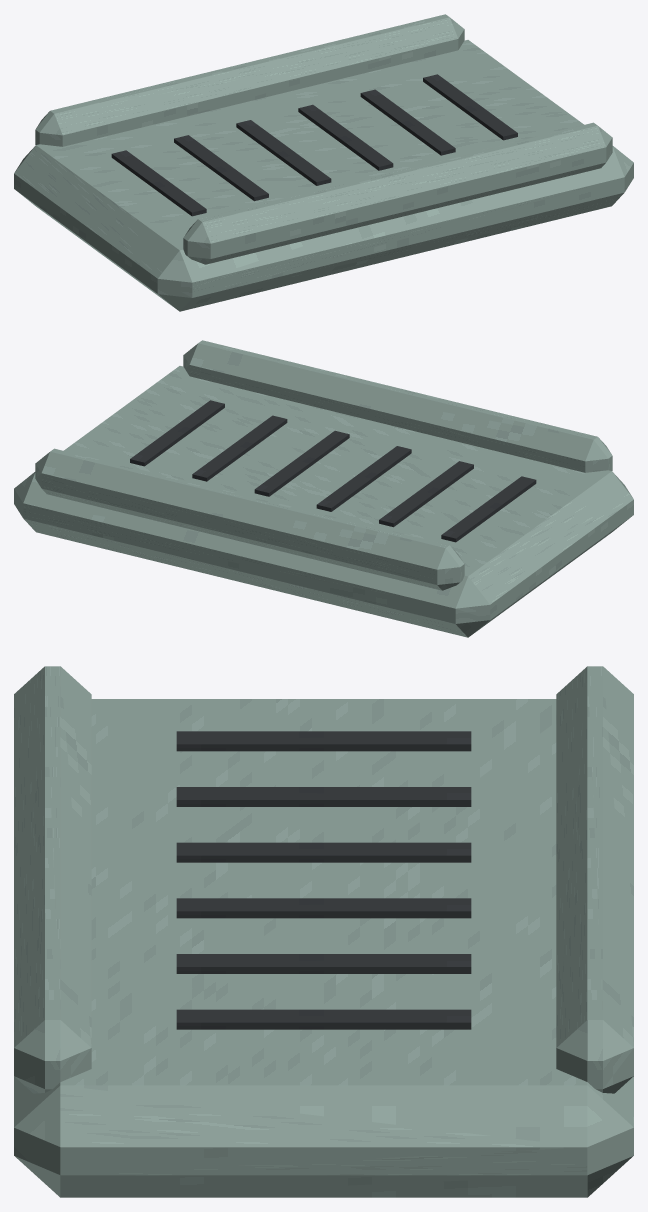
Rendered from soap_holder.glb.
3 renders of one model, top to bottom at view 1: azimuth 30°, elevation 25°; view 2: azimuth 150°, elevation 25°; view 3: azimuth 270°, elevation 25°, orthographic. The views are drawn at different scales.
Parts seen in each view (by area): view 1: block_oval base, block_rim 1, block_rim -1, block_drain 0, block_drain 3, block_drain 4, block_drain 2, block_drain 5, block_drain 1; view 2: block_oval base, block_rim -1, block_rim 1, block_drain 0, block_drain 3, block_drain 4, block_drain 2, block_drain 5, block_drain 1; view 3: block_oval base, block_rim -1, block_rim 1, block_drain 0, block_drain 2, block_drain 3, block_drain 5, block_drain 1, block_drain 4.
Part boxes in pixels (x1,y1,x2,y2): block_oval base: [14, 40, 633, 311]; block_rim 1: [183, 122, 612, 264]; block_rim -1: [35, 14, 464, 146]; block_drain 0: [111, 150, 206, 216]; block_drain 3: [298, 104, 393, 170]; block_drain 4: [360, 89, 455, 155]; block_drain 2: [236, 120, 331, 185]; block_drain 5: [423, 74, 517, 140]; block_drain 1: [174, 135, 268, 201]; block_oval base: [14, 366, 633, 637]; block_rim -1: [35, 448, 464, 590]; block_rim 1: [183, 340, 612, 472]; block_drain 0: [441, 476, 536, 542]; block_drain 3: [254, 430, 349, 496]; block_drain 4: [192, 415, 287, 481]; block_drain 2: [316, 446, 411, 511]; block_drain 5: [130, 400, 224, 466]; block_drain 1: [379, 461, 473, 527]; block_oval base: [14, 699, 633, 1197]; block_rim -1: [556, 666, 633, 1093]; block_rim 1: [14, 666, 91, 1093]; block_drain 0: [176, 731, 471, 751]; block_drain 2: [176, 842, 471, 862]; block_drain 3: [176, 898, 471, 918]; block_drain 5: [176, 1009, 471, 1029]; block_drain 1: [176, 787, 471, 806]; block_drain 4: [176, 954, 471, 973].
Bounding box in the file's own units: 0.13 × 0.023 × 0.08.
1 material, 1 textured.
